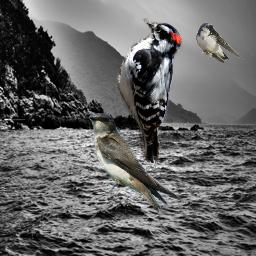Swallow: (89, 113, 182, 214), (195, 22, 245, 63)
Woodpecker: (116, 18, 184, 163)
